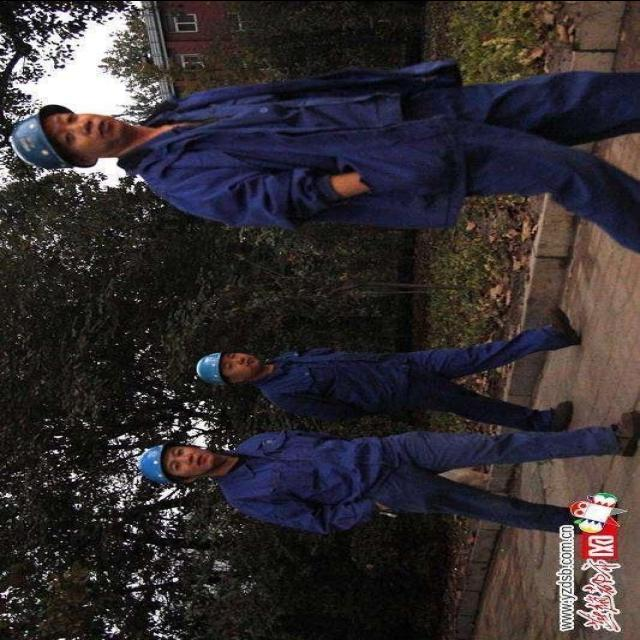helmet: (2, 105, 74, 178), (136, 438, 181, 494), (191, 349, 223, 385)
